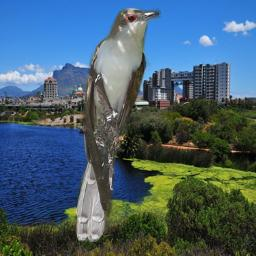Cuckoo: (73, 5, 162, 242)
